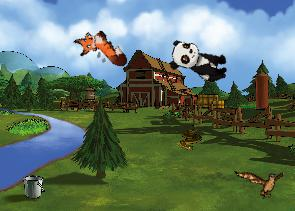eagle: (234, 158, 289, 205)
fox: (70, 20, 130, 82)
panda: (166, 37, 232, 85)
